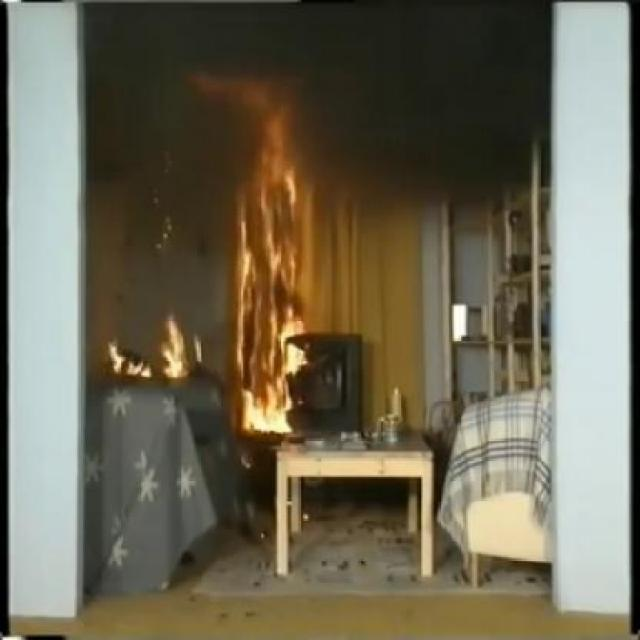fire: (224, 78, 310, 434), (102, 322, 210, 380)
smoke: (190, 2, 556, 196), (88, 11, 232, 332)
